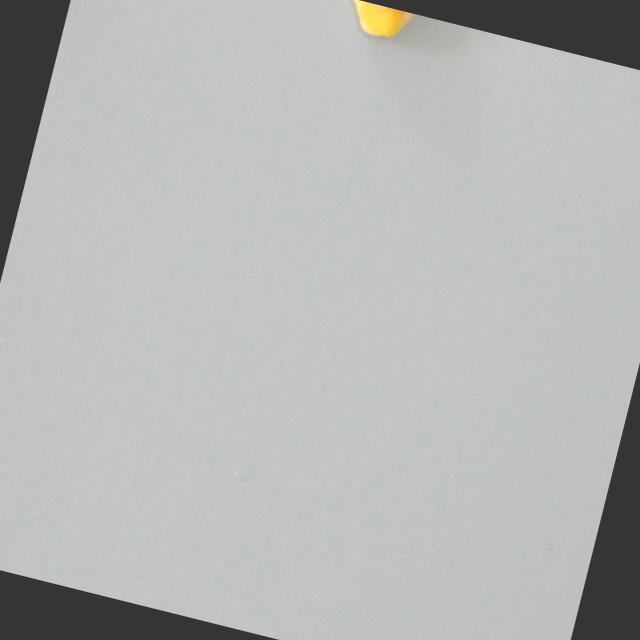pelicula: (339, 0, 429, 48)
